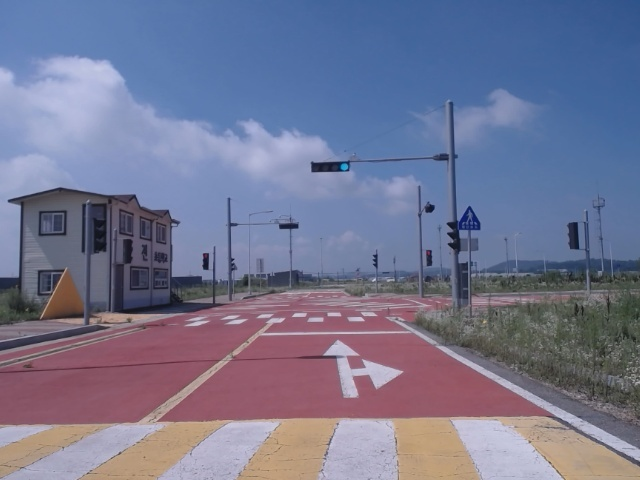straight_green_4: (310, 163, 350, 172)
